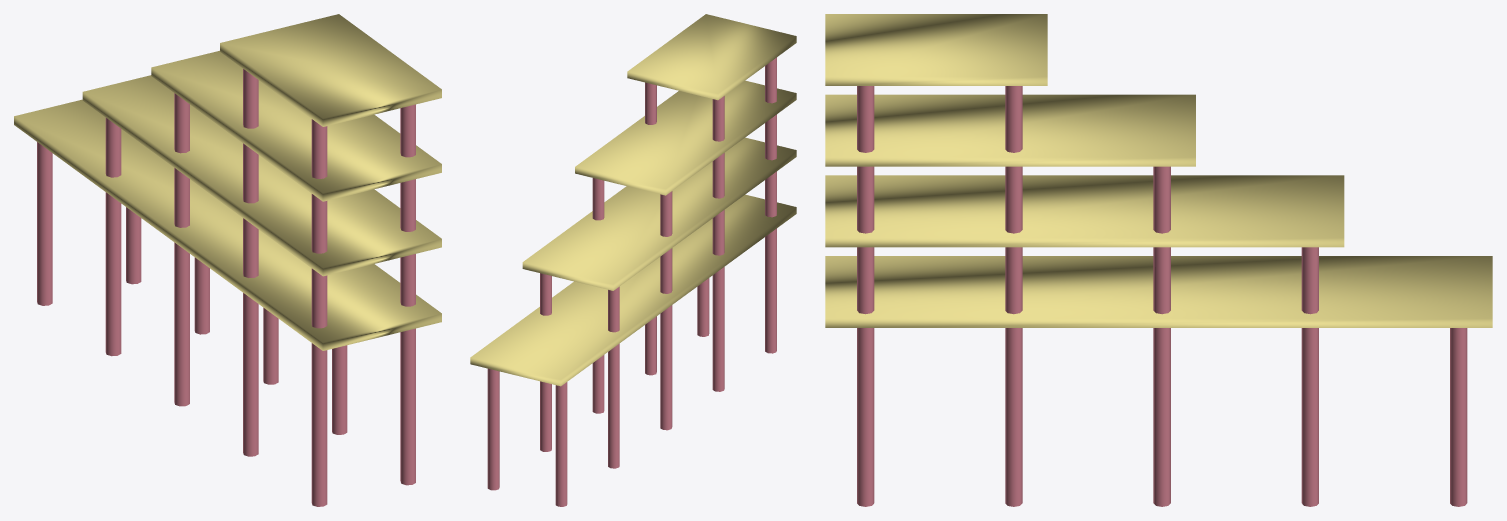
The model's file is CUBE_SHELF.fbx.
The picture shows the model from 3 angles, left to right: view 1: azimuth 30°, elevation 25°; view 2: azimuth 150°, elevation 25°; view 3: azimuth 270°, elevation 25°; orthographic projection. The views are drawn at different scales.
Parts seen in each view (by area): view 1: Cylinder.001; view 2: Cylinder.001; view 3: Cylinder.001.
Part boxes in pixels (x1,y1,x2,y2): Cylinder.001: [14, 14, 441, 506]; Cylinder.001: [470, 14, 796, 506]; Cylinder.001: [825, 14, 1492, 506].
Size of the model in its own units: 1 by 3.23 by 4.5.
